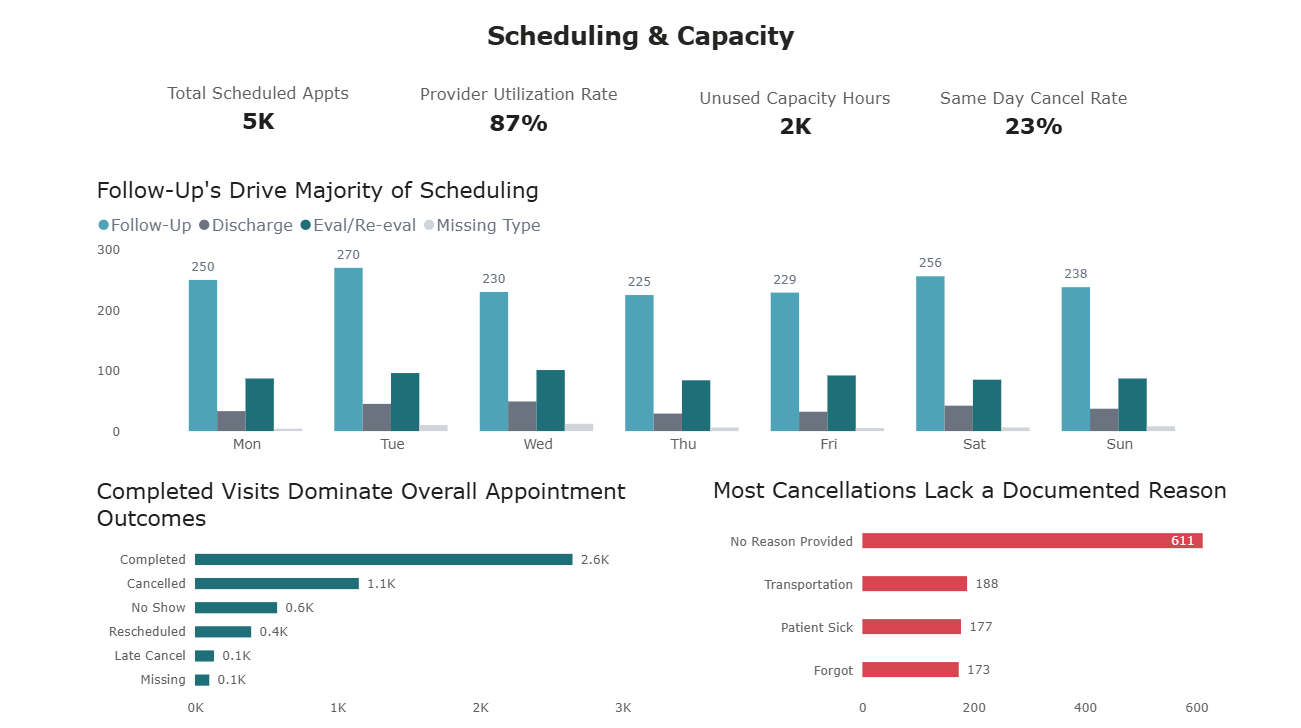

What the dashboard file says about the page in this screenshot:
{"tool":"powerbi","page":{"name":"schedule & capacity","canvas":[1280,720],"ordinal":3},"visuals":[{"type":"clusteredColumnChart","title":"Follow-Up''s Drive Majority of Scheduling","fields":{"Y":["appointments.Completed Appointments"],"Series":["appointments.appt_type_grouped"],"Category":["appointments.Weekday"]},"box":[89.7,167.9,1134.6,294.9],"z":0},{"type":"group","id":"g1","title":"Group 1","box":[139.7,68.5,1000,90.4],"z":1000},{"type":"cardVisual","fields":{"Data":["schedule.Utilization %"]},"box":[383.7,69.9,257.7,87.8],"z":1000,"group":"g1"},{"type":"clusteredBarChart","title":"Most Cancellations Lack a Documented Reason","fields":{"Category":["appointments.cancel_reason_clean"],"Y":["appointments.Cancelled Appointments"]},"box":[692.1,461.5,532.2,259],"z":1000,"group":"g2"},{"type":"group","id":"g2","title":"Group 2","box":[89.7,461.5,1134.6,259],"z":2000},{"type":"textbox","box":[416,16,432,64],"z":3000},{"type":"clusteredBarChart","title":"Completed Visits Dominate Overall Appointment Outcomes","fields":{"Y":["appointments.Total Appointments"],"Category":["appointments.status_clean"]},"box":[89.7,462.8,542.4,257.5],"z":3000,"group":"g2"},{"type":"cardVisual","fields":{"Data":["appointments.Total Scheduled Appointments"]},"box":[139.7,68.5,236.8,87.8],"z":4000,"group":"g1"},{"type":"cardVisual","fields":{"Data":["appointments.Same Day Cancel Rate"]},"box":[892.6,73,247.1,87.1],"z":5000,"group":"g1"},{"type":"cardVisual","fields":{"Data":["schedule.Unused Capacity Hours"]},"box":[656.8,73,252.9,87.1],"z":6000,"group":"g1"}]}

Visuals, with their boxes in screenshot pixels (x1, y1, x2, y2), scaled from the page's 1280x720 canvas onto the 1301x728 screenshot:
"Follow-Up''s Drive Majority of Scheduling" clusteredColumnChart: (91, 170, 1244, 468)
"Group 1" group: (142, 69, 1158, 161)
cardVisual - schedule.Utilization %: (390, 71, 652, 159)
"Most Cancellations Lack a Documented Reason" clusteredBarChart: (703, 467, 1244, 727)
"Group 2" group: (91, 467, 1244, 727)
textbox: (423, 16, 862, 81)
"Completed Visits Dominate Overall Appointment Outcomes" clusteredBarChart: (91, 468, 642, 727)
cardVisual - appointments.Total Scheduled Appointments: (142, 69, 383, 158)
cardVisual - appointments.Same Day Cancel Rate: (907, 74, 1158, 162)
cardVisual - schedule.Unused Capacity Hours: (668, 74, 925, 162)
